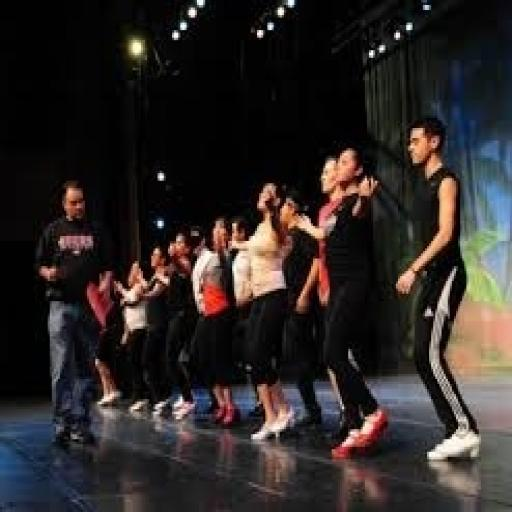dancing: (238, 116, 478, 499), (130, 197, 321, 512), (89, 150, 203, 439), (392, 113, 485, 467), (202, 162, 324, 404)
